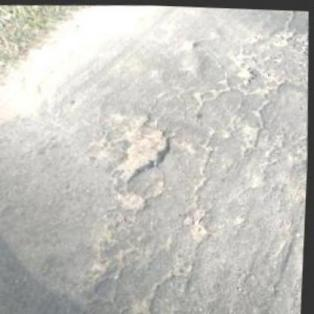Hueco: (114, 124, 176, 182), (119, 189, 152, 210)
